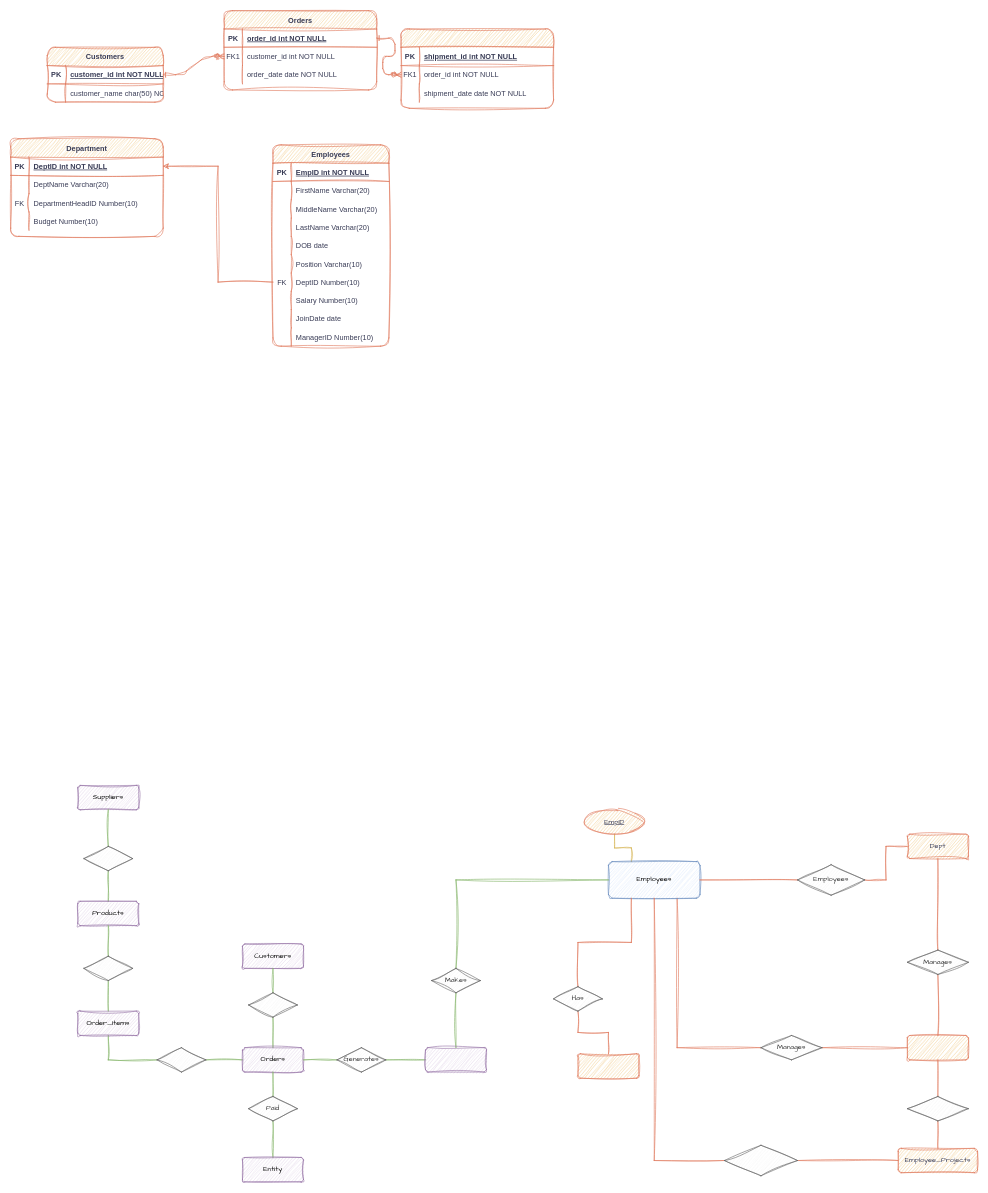
Image size: 988x1193. Some labels were removed from this diagram. The box of each missing label's shape, as (x1, y1, x2, y2) in pixels:
Assigned to: (724, 1145, 798, 1176)
Attendence: (577, 1053, 639, 1078)
Contains: (156, 1047, 206, 1072)
Included in: (83, 956, 133, 981)
Includes: (907, 1096, 968, 1121)
Places: (248, 992, 297, 1017)
Project: (907, 1035, 968, 1060)
Sales: (425, 1047, 486, 1072)
Shipments: (400, 28, 554, 108)
Supply: (83, 846, 133, 871)
